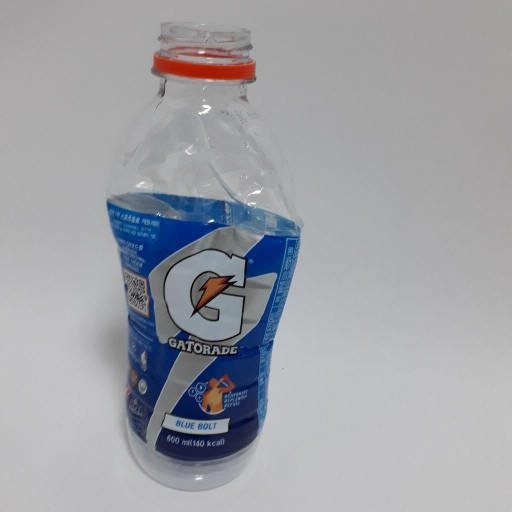Plastic_0: (100, 17, 304, 490)
